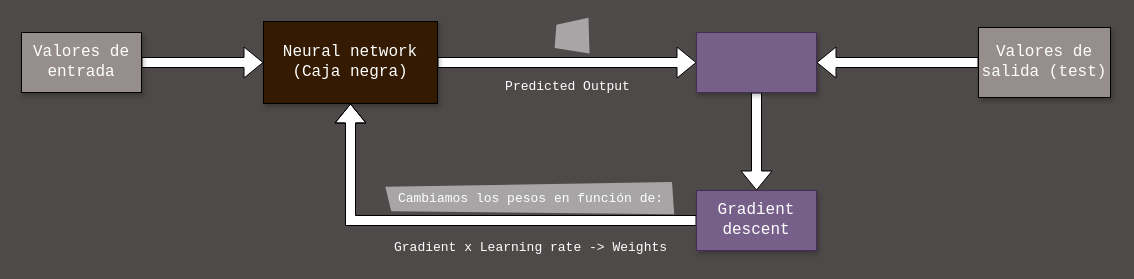
This 1134x279 diagram has some shape labels left out. The shapes that lost their labels are listed below. From the top down, each one's centre as x and y in pixels, then its label:
pixel 570 35: Y'
pixel 757 64: Loss function
